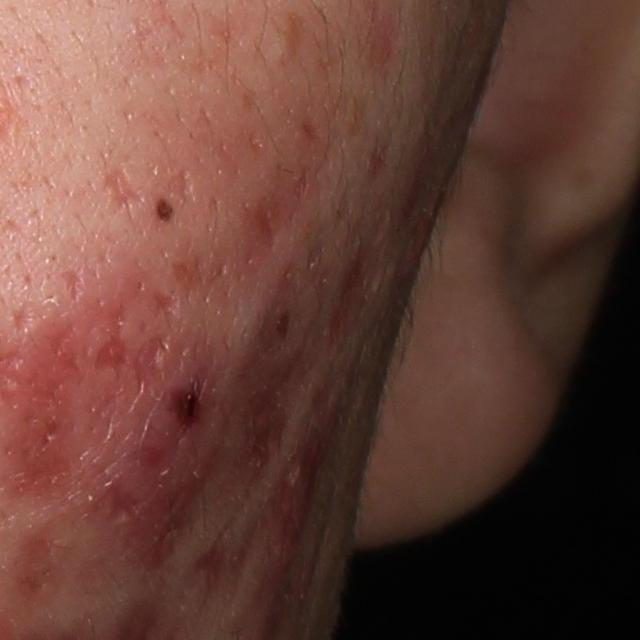atrophic_scar: (167, 254, 234, 303), (87, 303, 129, 376), (246, 193, 286, 250), (103, 169, 140, 219), (150, 286, 184, 333), (164, 165, 199, 207), (58, 267, 85, 303), (10, 301, 35, 338)
nevus: (153, 193, 183, 224)
nodule: (85, 339, 226, 565)
